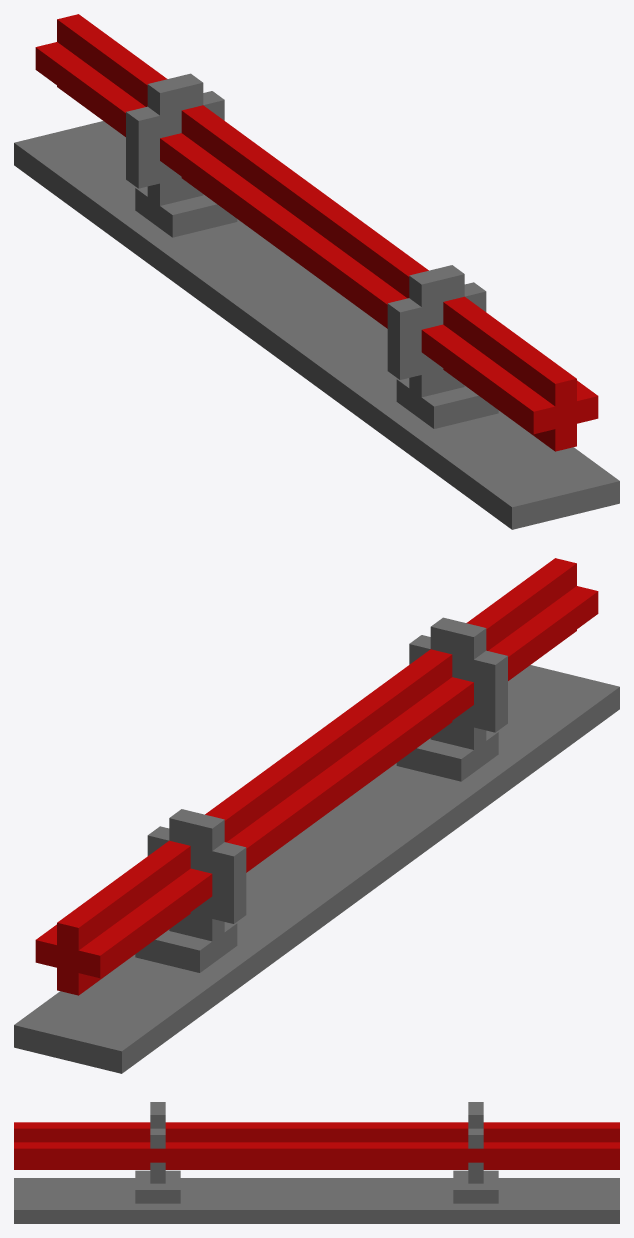
Rendered from All-16-Zabor_6.obj.
3 renders of one model, top to bottom at view 1: azimuth 30°, elevation 25°; view 2: azimuth 150°, elevation 25°; view 3: azimuth 270°, elevation 25°, orthographic. The views are drawn at different scales.
Parts seen in each view (by area): view 1: Zabor_6; view 2: Zabor_6; view 3: Zabor_6.
Part boxes in pixels (x1,y1,x2,y2): Zabor_6: (14, 14, 619, 529); Zabor_6: (14, 558, 619, 1073); Zabor_6: (14, 1102, 619, 1223).
Bounding box in the file's own units: 0.5 × 0.7 × 4.
Materials: 1 (1 with a texture image).
